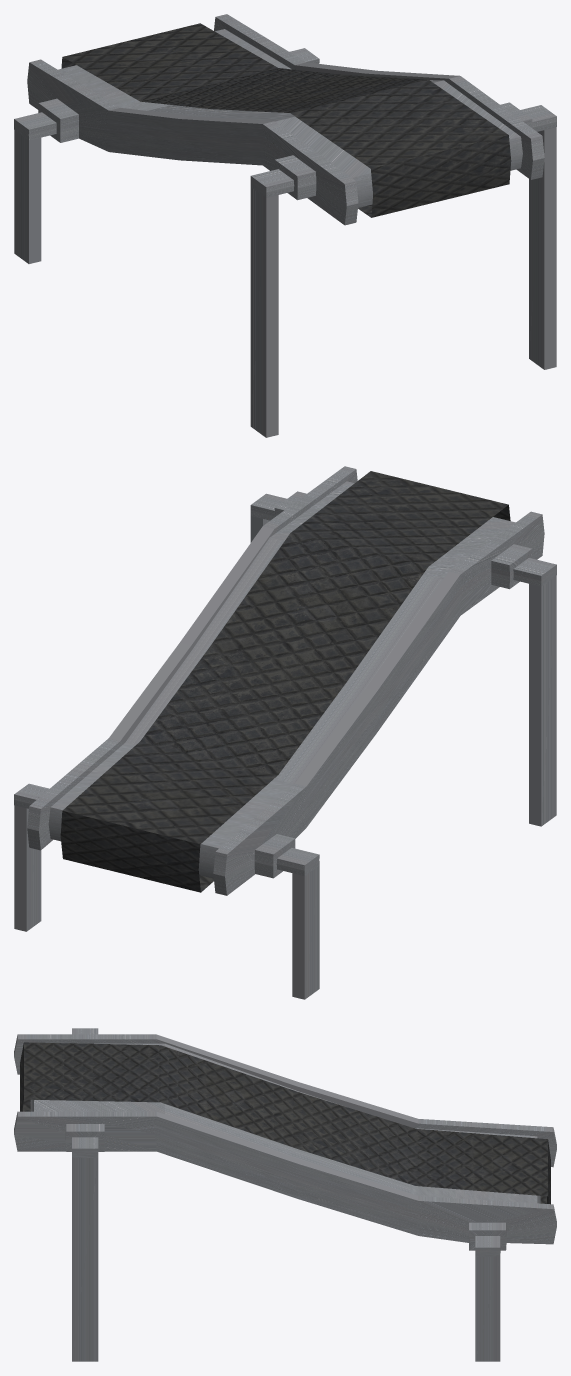
File: conveyer_slope.FBX
3 views of the same model, one above another, from view 1: azimuth 30°, elevation 25°; view 2: azimuth 150°, elevation 25°; view 3: azimuth 270°, elevation 25° (orthographic). The views are drawn at different scales.
Visible parts, largest first — view 1: conveyer_slope; view 2: conveyer_slope; view 3: conveyer_slope.
Boxes of the visible parts, x1,y1,x2,y2 form: conveyer_slope: (14,14,556,437); conveyer_slope: (14,466,556,999); conveyer_slope: (14,1028,556,1361).
Bounding box in the file's own units: 73.47 × 65.55 × 140.
Materials: 2 (2 with a texture image).
